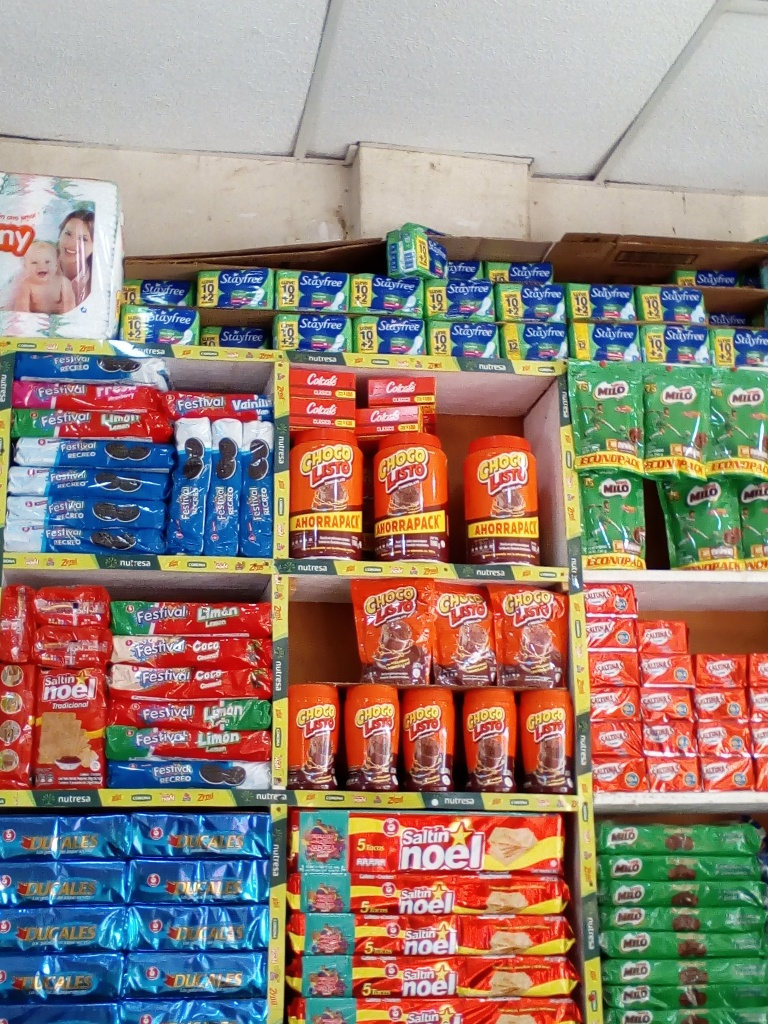COL0170103TRR00100: (285, 432, 367, 564)
